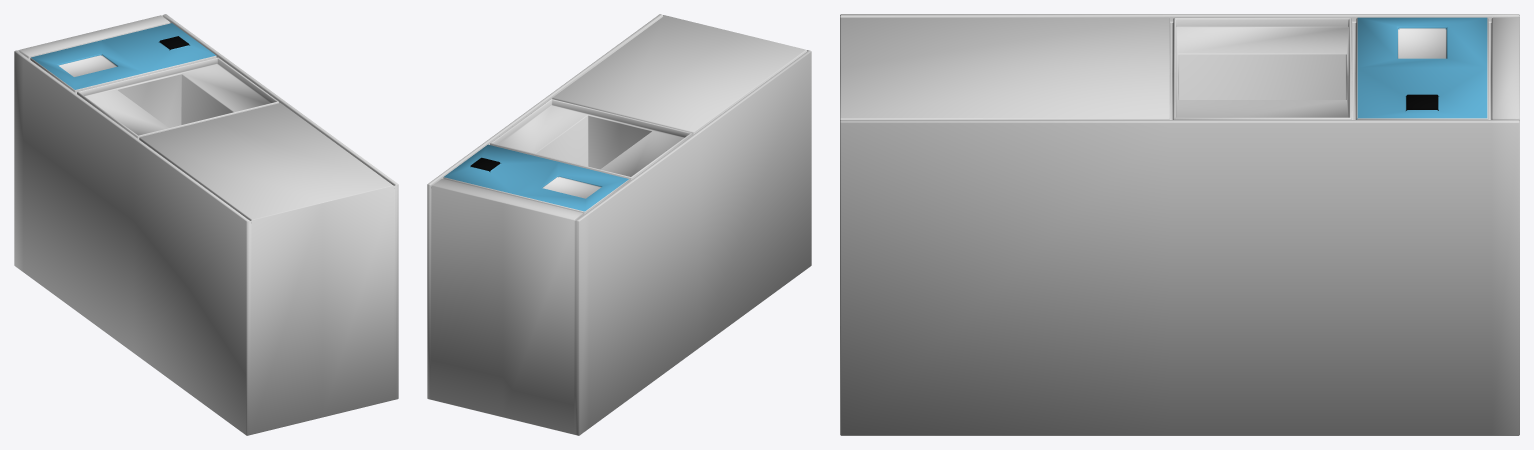
3 views of the same model, side by side, from view 1: azimuth 30°, elevation 25°; view 2: azimuth 150°, elevation 25°; view 3: azimuth 270°, elevation 25° (orthographic). The views are drawn at different scales.
Visible parts, largest first — view 1: Cube; view 2: Cube; view 3: Cube.
Part boxes in pixels (<box>): Cube: <box>14,14,398,435</box>; Cube: <box>427,14,811,435</box>; Cube: <box>840,14,1519,435</box>.
Size of the model in its own units: 59.6 by 81.21 by 158.
